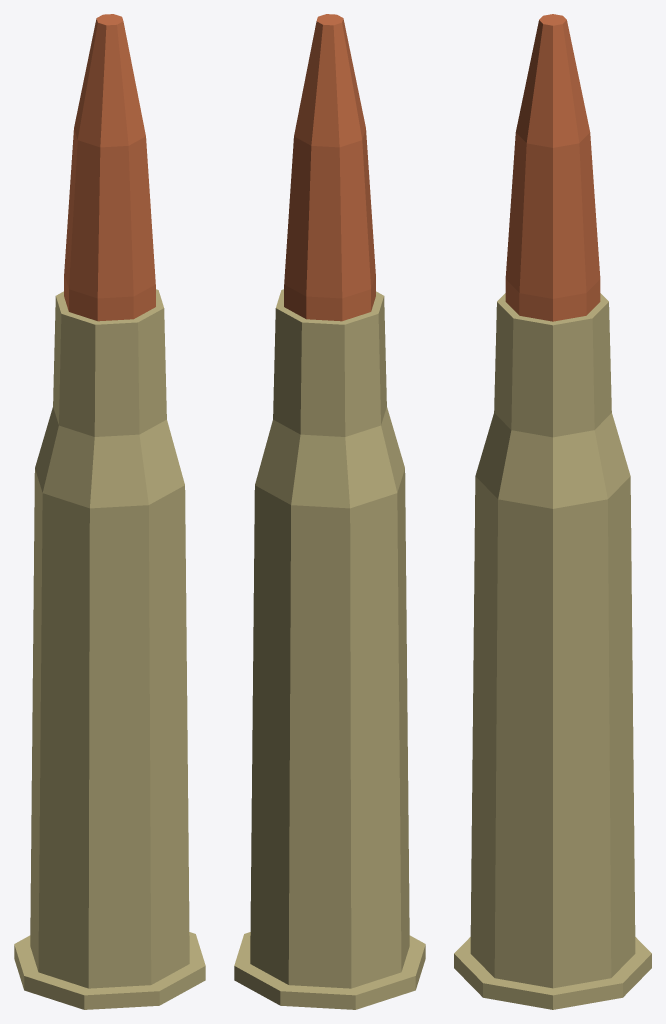
The model's file is CRT-308.fbx.
The picture shows the model from 3 angles, left to right: view 1: azimuth 30°, elevation 25°; view 2: azimuth 150°, elevation 25°; view 3: azimuth 270°, elevation 25°; orthographic projection.
Visible parts, largest first — view 1: Cylinder.012; view 2: Cylinder.012; view 3: Cylinder.012.
Boxes of the visible parts, <box> form: Cylinder.012: <box>14,14,205,1009</box>; Cylinder.012: <box>234,14,425,1009</box>; Cylinder.012: <box>454,14,651,1009</box>.
Size of the model in its own units: 39.87 by 211 by 39.87.
